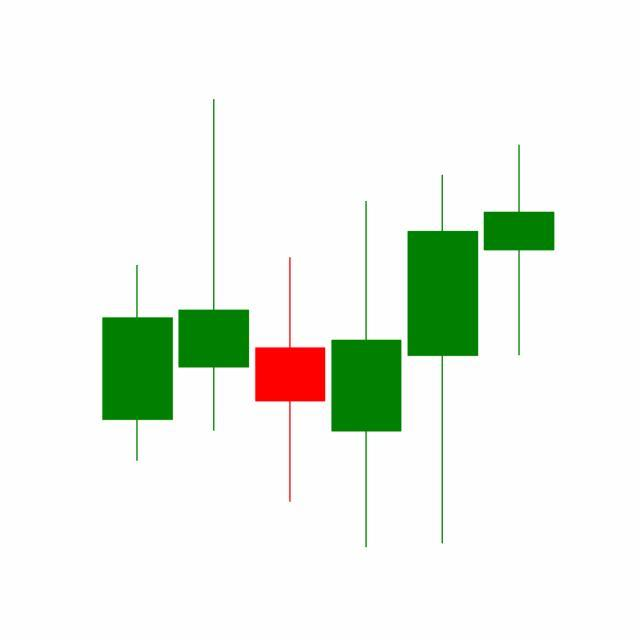Three Outside Up-Down: (252, 170, 482, 548)
